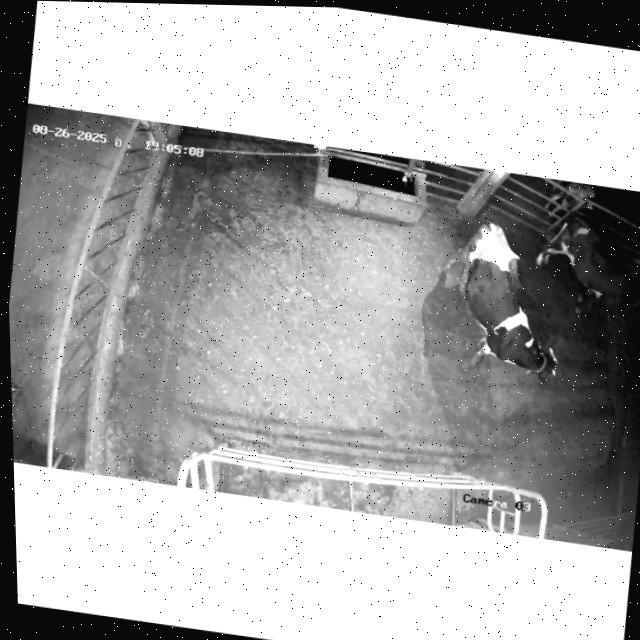stand: (422, 212, 578, 403)
